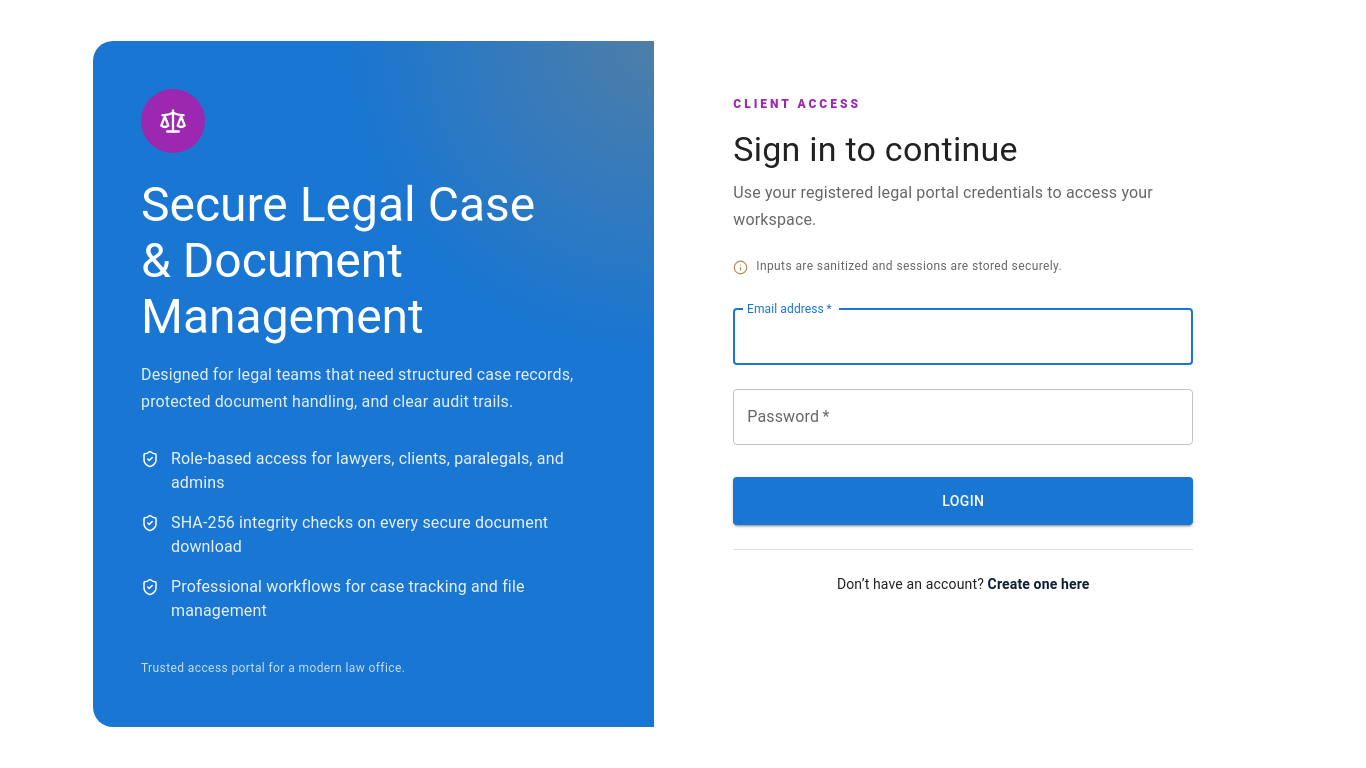
it: Login component — client-side validation › shows email validation error for an invalid email format
Type "notvalid" into the field labelled "Email address *" at (963, 337), box [733, 309, 1193, 365]
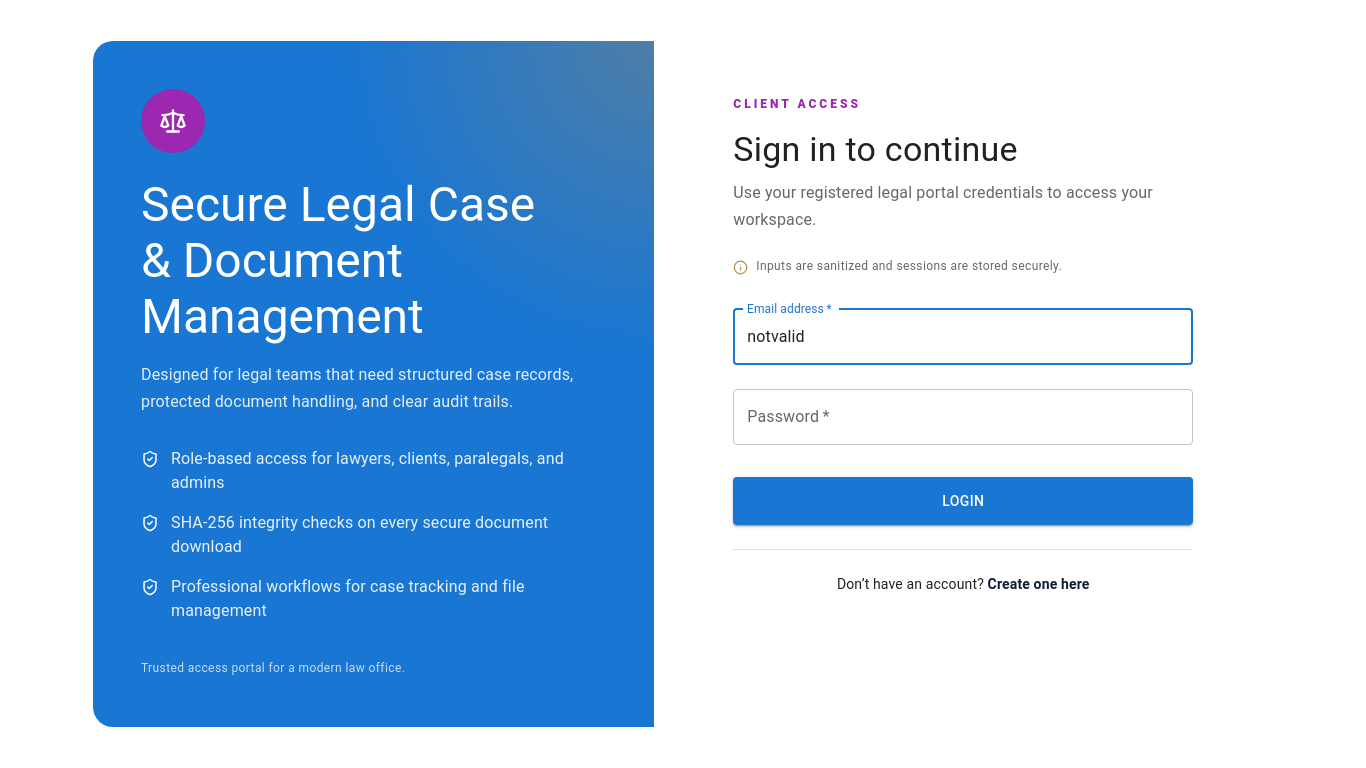
Type "somepass" into the password field labelled "Password *" at (963, 417), box [733, 389, 1193, 445]
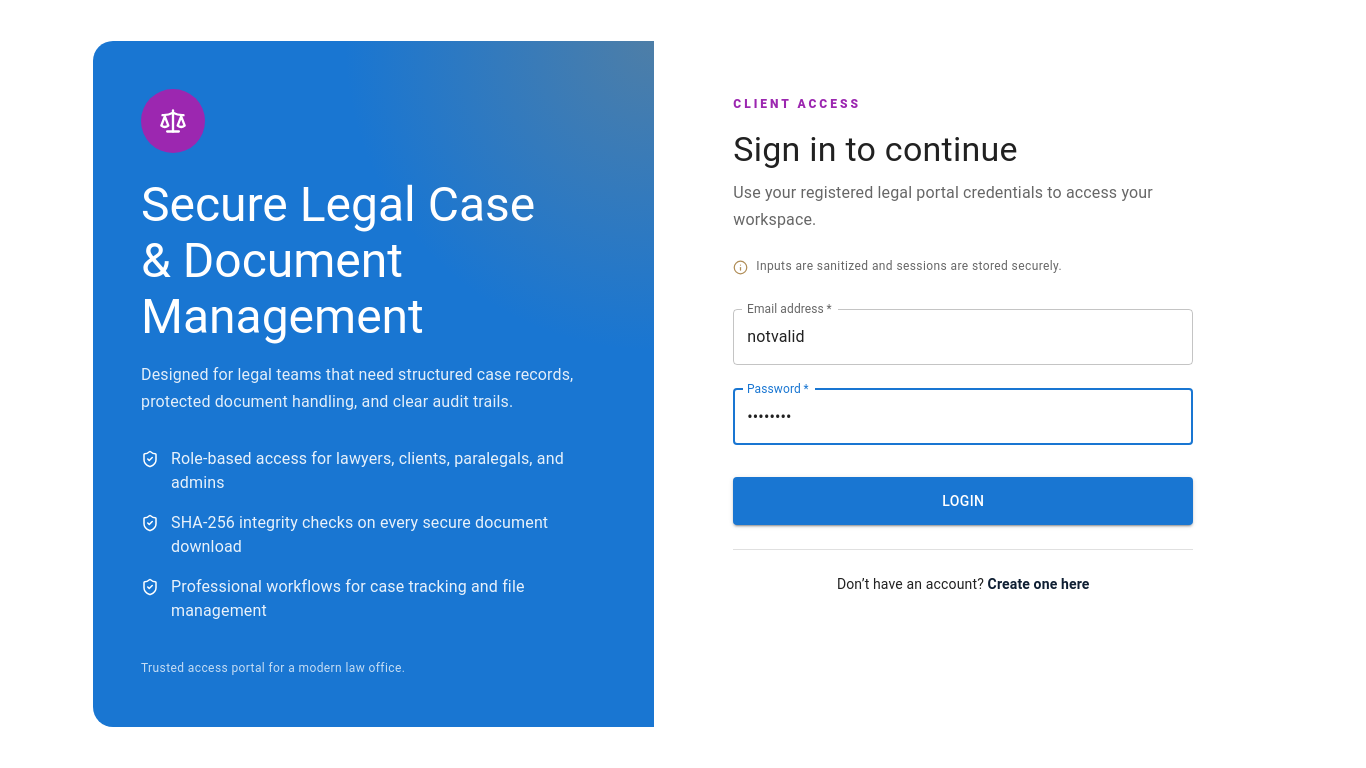
Submit the form from the button "Login", box [733, 477, 1193, 526]
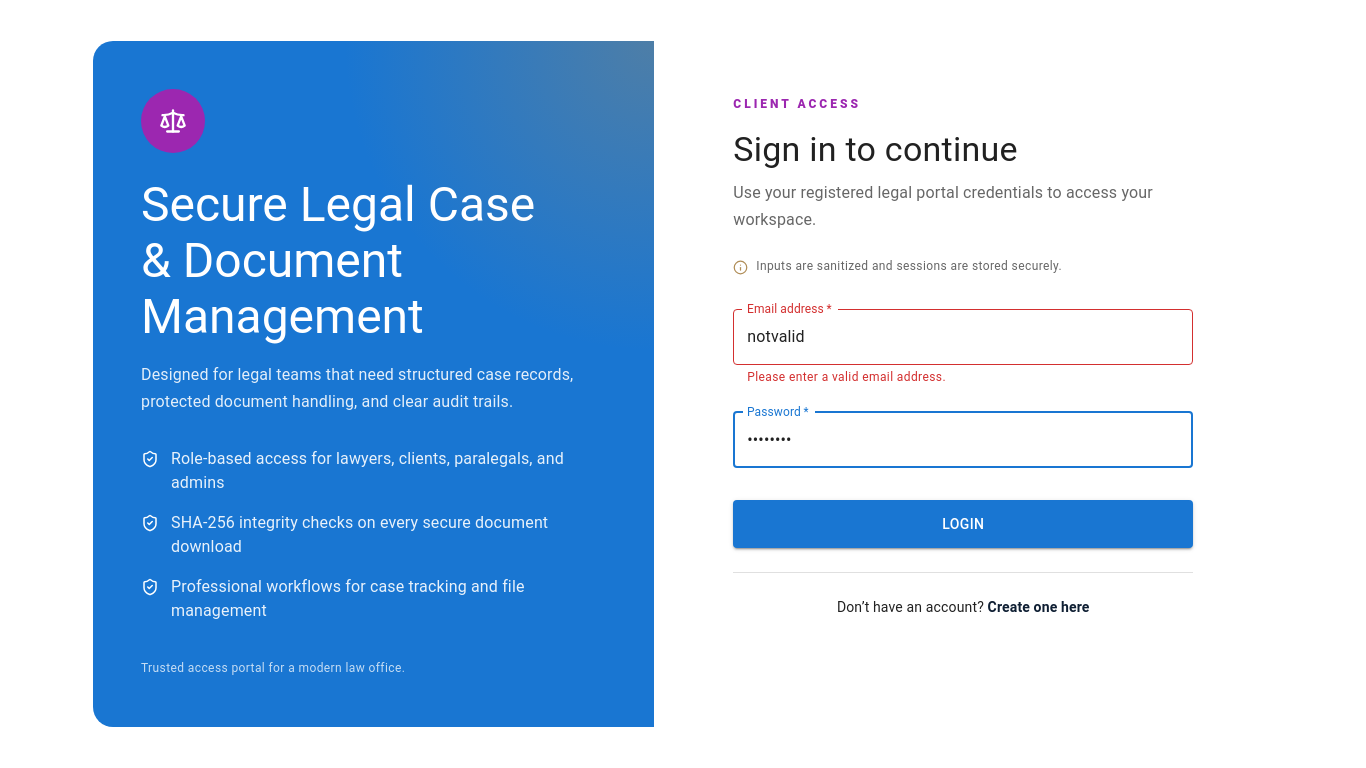
Expected: the text "Please enter a valid email address." is shown, [747, 370, 946, 384]
